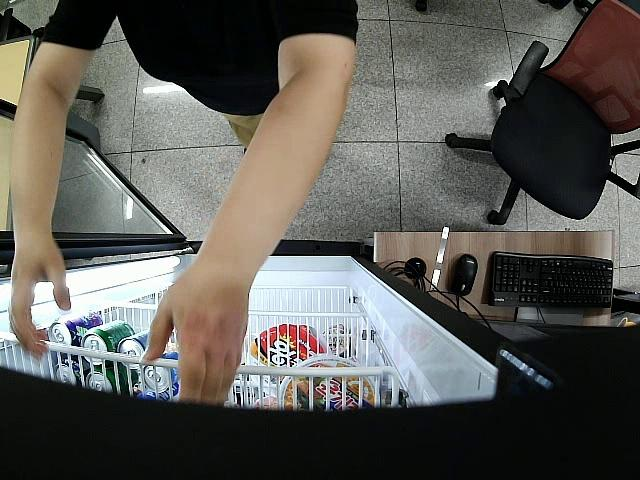00_hand: (141, 269, 250, 407), (10, 234, 71, 356)
